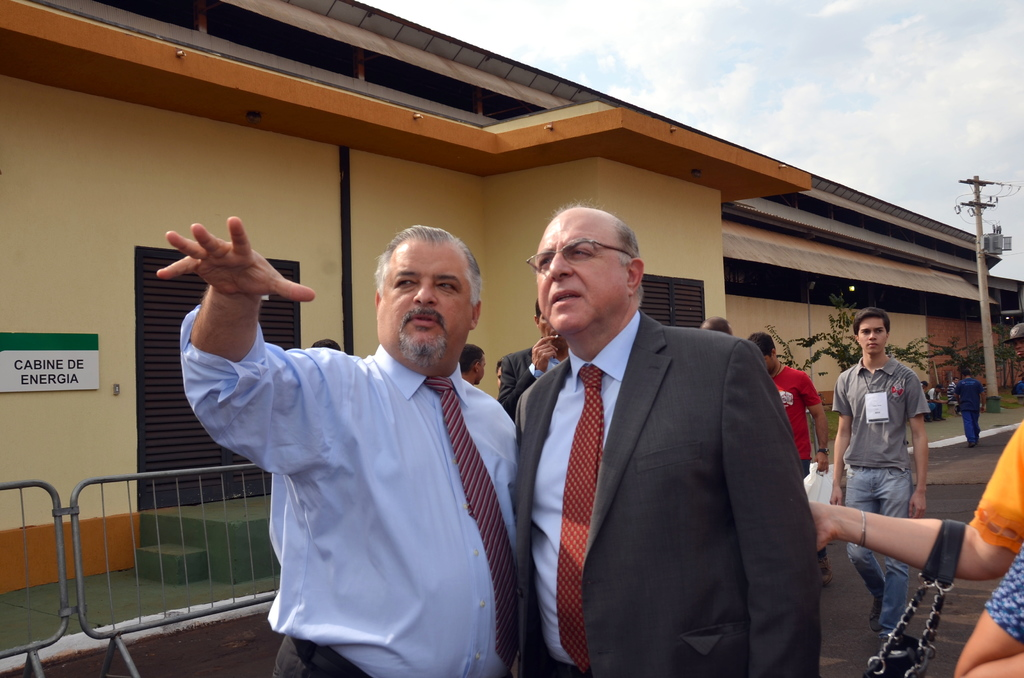Human_hand: (150, 222, 288, 300), (806, 499, 838, 551), (531, 332, 559, 371), (908, 490, 929, 519), (815, 451, 831, 473), (827, 484, 844, 503), (977, 404, 988, 413), (941, 398, 950, 405)
